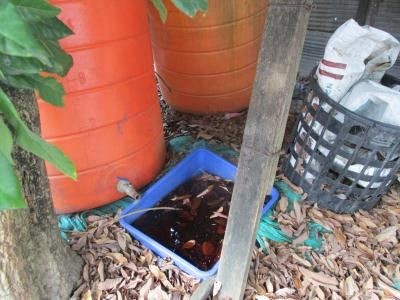box: (113, 146, 281, 282)
bucket: (35, 1, 166, 216), (148, 1, 271, 117)
plastic_bag: (315, 20, 400, 125)
